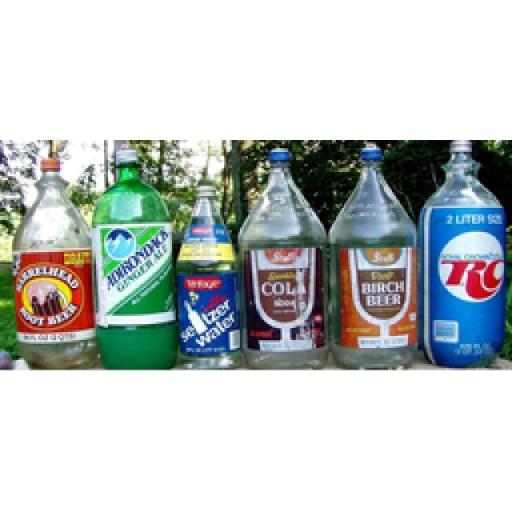plastic: (326, 148, 418, 372), (90, 146, 180, 372), (236, 154, 328, 370), (420, 146, 506, 370), (12, 158, 100, 370), (174, 186, 240, 370)
